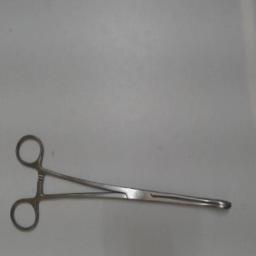Sponge Forceps: (6, 130, 240, 240)
